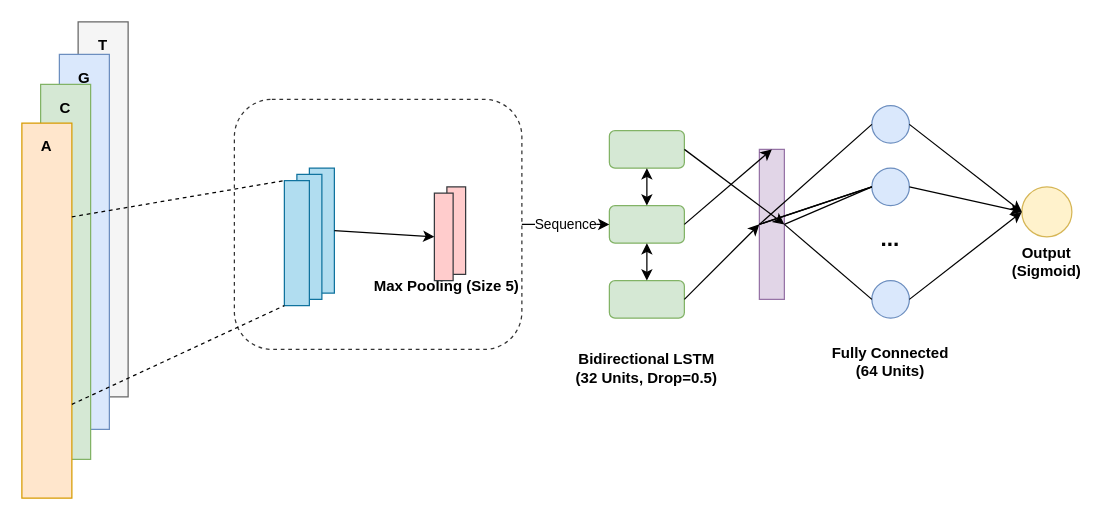
The diagram is 1113 pixels wide and 520 high, and some of its shapes have lost their labels. Here are the shapes that lost their labels. From the top down, the box of each, then its label:
(233, 98, 522, 349): 1D Convolutional + ReLU (128 Filters, k=15)
(758, 148, 784, 299): Flatten
